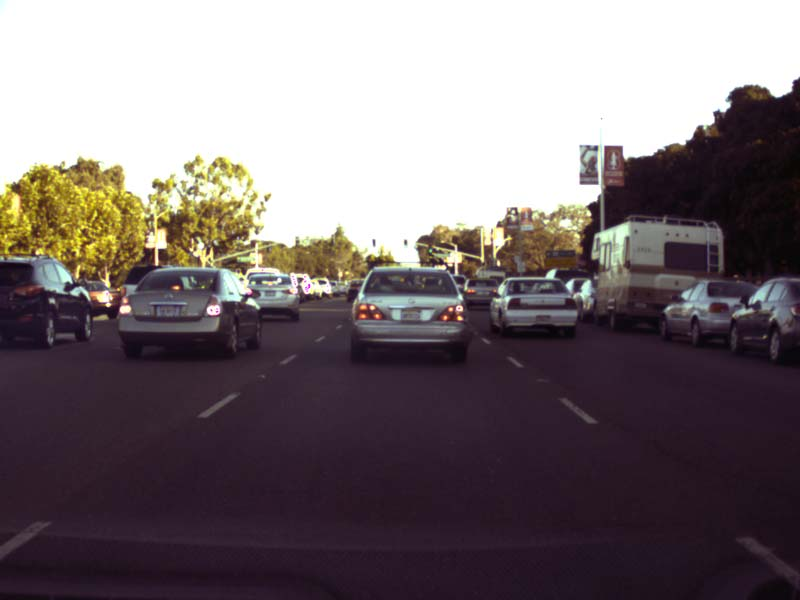Green: (428, 243, 432, 253), (403, 239, 407, 247), (372, 239, 375, 246)
